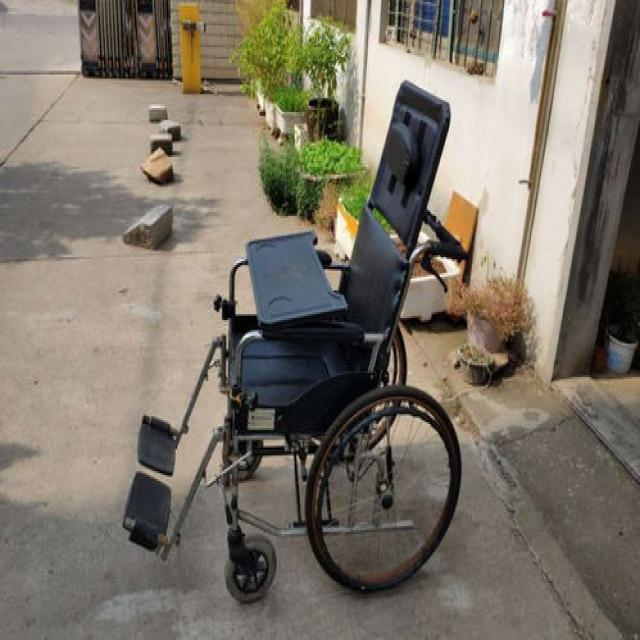wheelchair: (108, 72, 467, 622)
